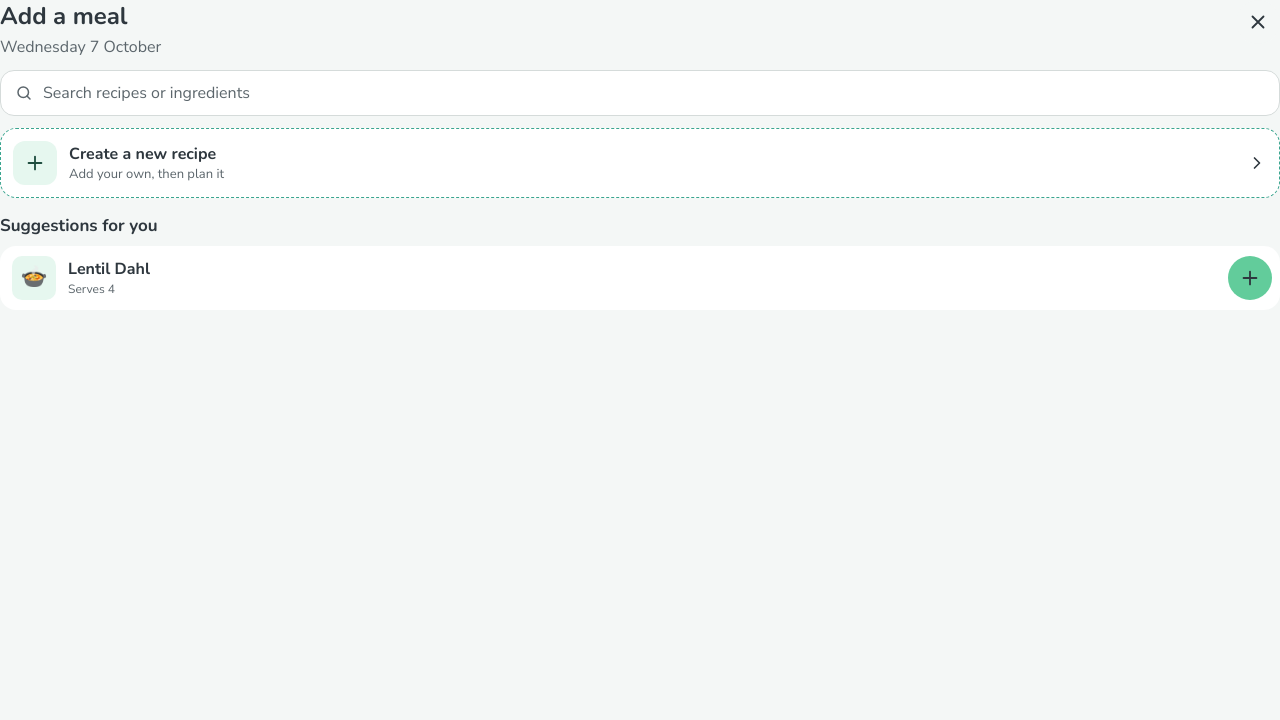
Test: AddMealPage › defaults to the recipe's own servings when no household size is set
Click the button named "Add Lentil Dahl" at (1250, 278), box 1228,256 -> 1272,300
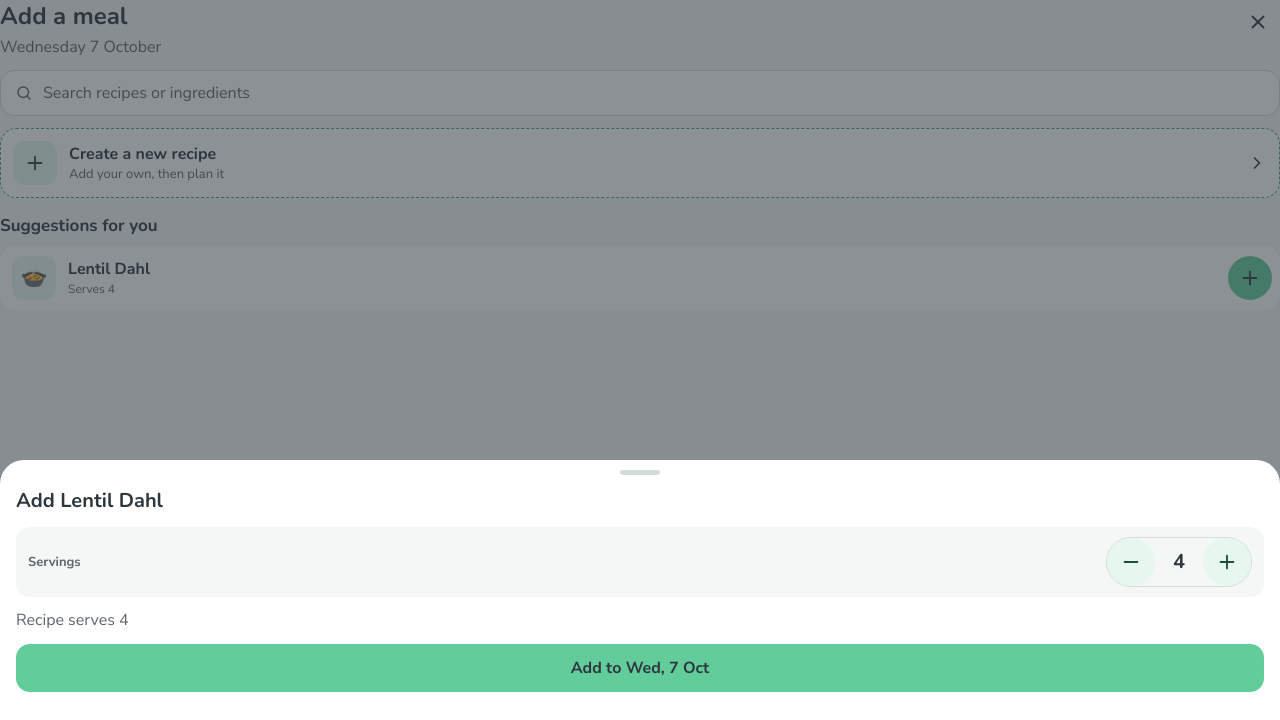
Result: the text "4" is shown at 1173,548 -> 1185,575
